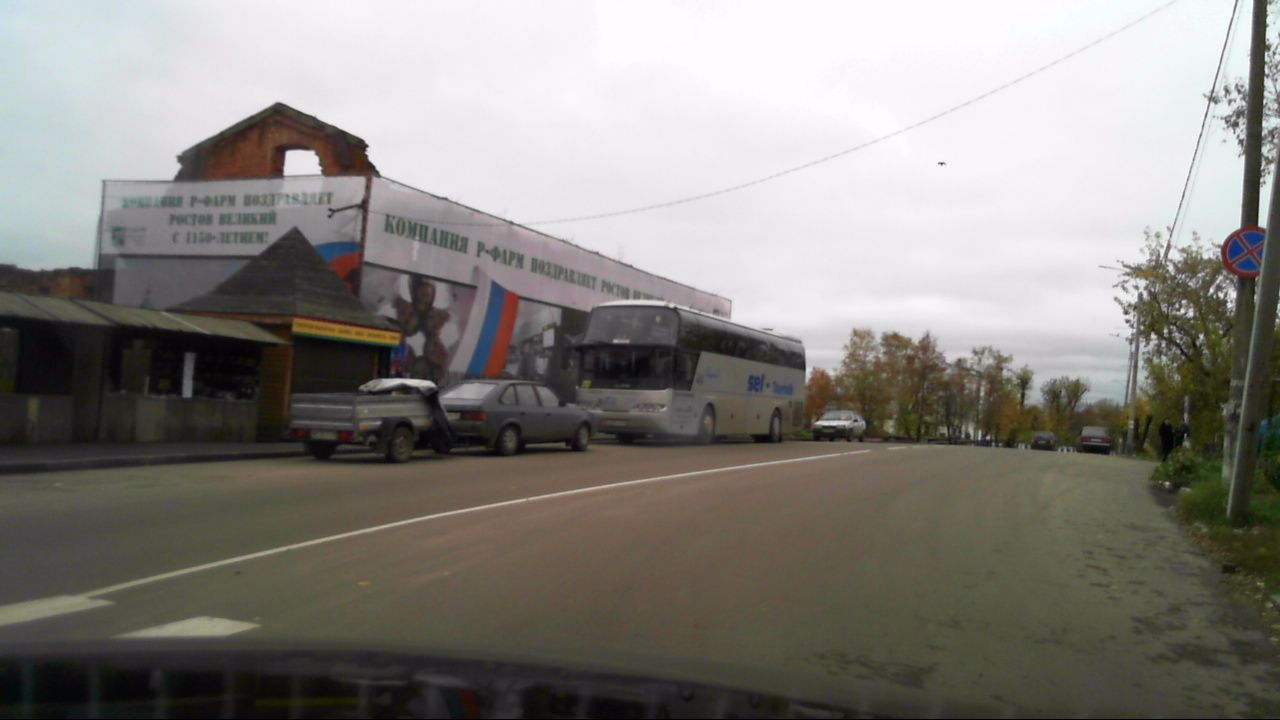No Parking: (1220, 224, 1273, 281)
